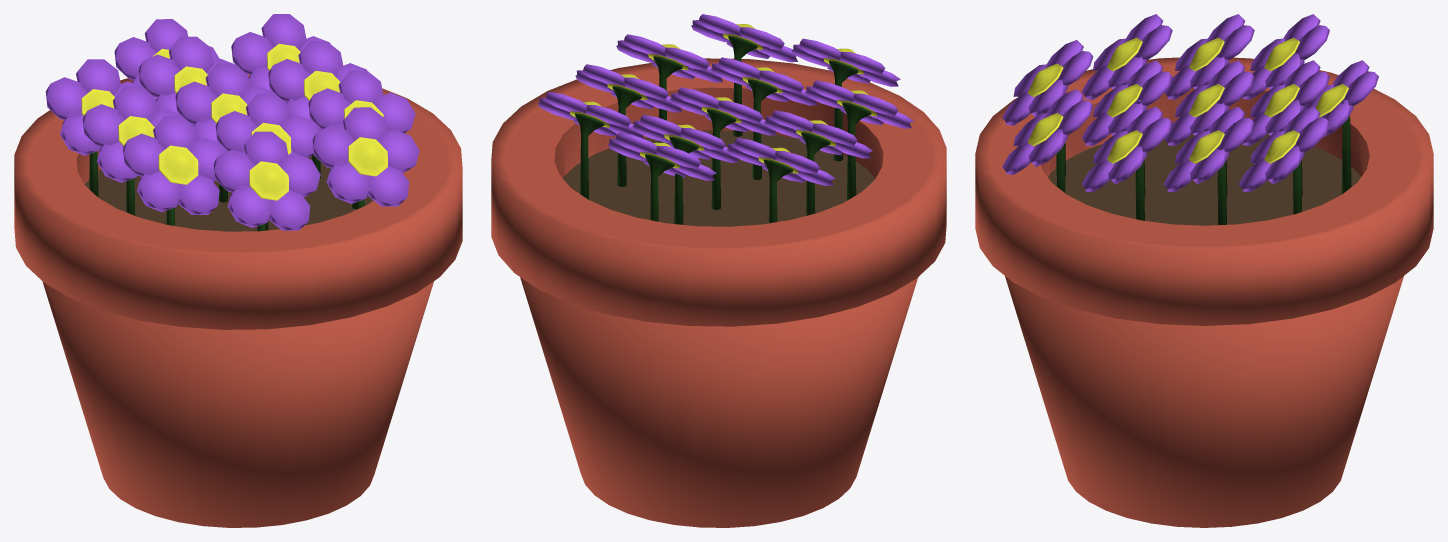
The model's file is flores77.fbx.
The picture shows the model from 3 angles, left to right: view 1: azimuth 30°, elevation 25°; view 2: azimuth 150°, elevation 25°; view 3: azimuth 270°, elevation 25°; orthographic projection. The views are drawn at different scales.
Visible parts, largest first — view 1: florpensamiento.007; view 2: florpensamiento.007; view 3: florpensamiento.007.
Part boxes in pixels (box(x1,y1,x2,y2)): florpensamiento.007: box(14, 14, 462, 527); florpensamiento.007: box(491, 14, 946, 527); florpensamiento.007: box(975, 14, 1433, 527).
Bounding box in the file's own units: 148 × 142 × 148.
